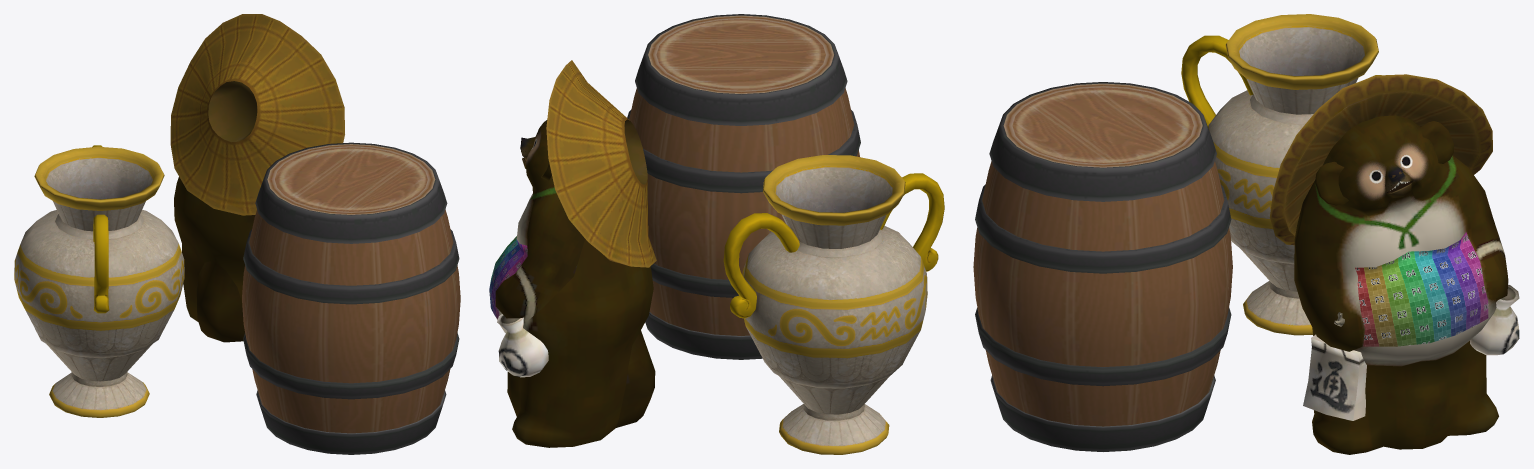
Rendered from acnh-tanuki.glb.
The picture shows the model from 3 angles, left to right: view 1: azimuth 30°, elevation 25°; view 2: azimuth 150°, elevation 25°; view 3: azimuth 270°, elevation 25°; orthographic projection. The views are drawn at different scales.
Parts seen in each view (by area): view 1: barrel, aquarius-urn, tanuki; view 2: barrel, tanuki, aquarius-urn, tanuki-clip; view 3: barrel, tanuki, aquarius-urn, tanuki-clip.
Boxes of the visible parts, bbox=[...] form: barrel: bbox=[242, 142, 460, 454]; aquarius-urn: bbox=[14, 145, 184, 417]; tanuki: bbox=[170, 14, 344, 342]; barrel: bbox=[627, 14, 860, 359]; tanuki: bbox=[495, 60, 656, 447]; aquarius-urn: bbox=[723, 155, 944, 454]; tanuki-clip: bbox=[489, 236, 527, 318]; barrel: bbox=[973, 82, 1232, 451]; tanuki: bbox=[1269, 74, 1519, 454]; aquarius-urn: bbox=[1181, 14, 1381, 335]; tanuki-clip: bbox=[1355, 232, 1488, 346].
Size of the model in its own units: 0.7986 by 0.6714 by 0.9276.
Materials: 4 (4 with a texture image).
